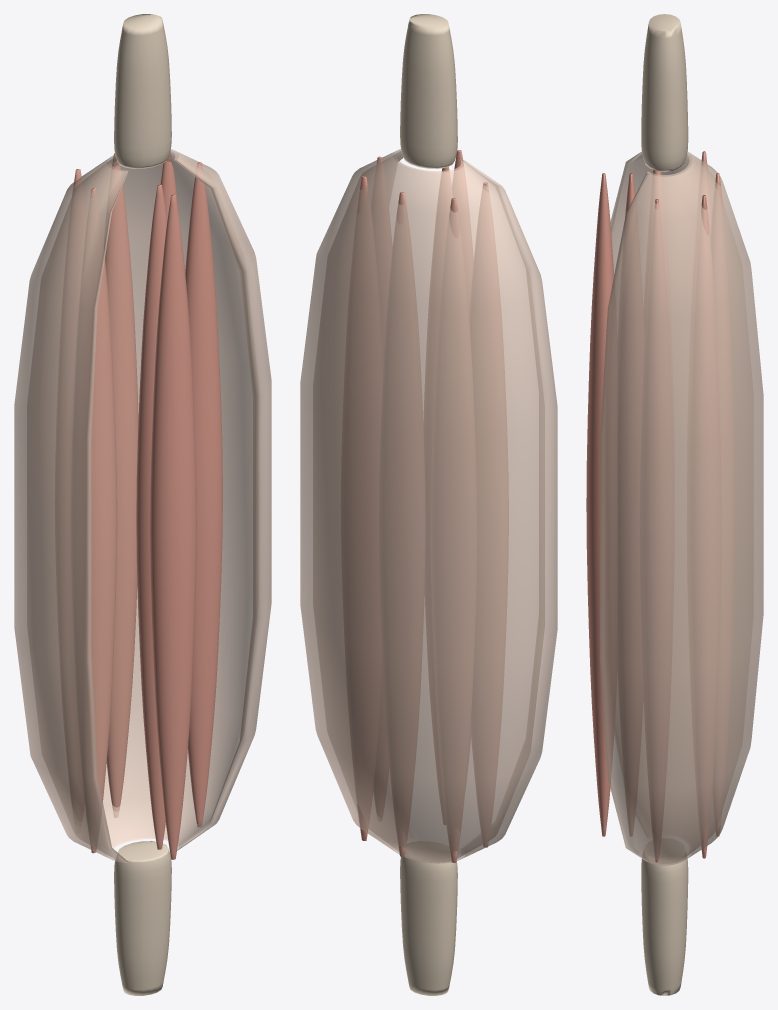
The model's file is muscle_belly.glb.
3 renders of one model, left to right at view 1: azimuth 30°, elevation 25°; view 2: azimuth 150°, elevation 25°; view 3: azimuth 270°, elevation 25°, orthographic.
Parts seen in each view (by area): view 1: Epimysium, Fascicle bundle 07, Fascicle bundle 02, Fascicle bundle 03, Fascicle bundle 06, Fascicle bundle 04, Fascicle bundle 01, TendonTop collagen, TendonBottom collagen, Fascicle bundle 05; view 2: Epimysium, Fascicle bundle 04, Fascicle bundle 06, Fascicle bundle 05, Fascicle bundle 02, TendonTop collagen, TendonBottom collagen, Fascicle bundle 01, Fascicle bundle 03, Fascicle bundle 07; view 3: Epimysium, Fascicle bundle 05, Fascicle bundle 03, Fascicle bundle 07, Fascicle bundle 01, Fascicle bundle 06, TendonTop collagen, TendonBottom collagen, Fascicle bundle 02, Fascicle bundle 04.
Boxes of the visible parts, x1,y1,x2,y2 form: Epimysium: (14, 149, 271, 863); Fascicle bundle 07: (150, 194, 196, 859); Fascicle bundle 02: (71, 188, 117, 853); Fascicle bundle 03: (185, 162, 222, 827); Fascicle bundle 06: (104, 153, 138, 817); Fascicle bundle 04: (55, 169, 86, 821); Fascicle bundle 01: (136, 184, 167, 849); TendonTop collagen: (114, 14, 171, 168); TendonBottom collagen: (114, 841, 171, 995); Fascicle bundle 05: (160, 150, 178, 220); Epimysium: (300, 149, 557, 863); Fascicle bundle 04: (431, 198, 476, 862); Fascicle bundle 06: (379, 192, 424, 856); Fascicle bundle 05: (341, 176, 382, 840); Fascicle bundle 02: (469, 182, 508, 847); TendonTop collagen: (400, 14, 457, 168); TendonBottom collagen: (400, 841, 457, 995); Fascicle bundle 01: (424, 166, 452, 824); Fascicle bundle 03: (371, 156, 391, 818); Fascicle bundle 07: (452, 150, 473, 771); Epimysium: (600, 151, 763, 865); Fascicle bundle 05: (687, 195, 720, 858); Fascicle bundle 03: (640, 199, 673, 862); Fascicle bundle 07: (586, 173, 616, 836); Fascicle bundle 01: (618, 173, 643, 835); Fascicle bundle 06: (711, 173, 734, 836); TendonTop collagen: (641, 14, 688, 171); TendonBottom collagen: (641, 839, 688, 995); Fascicle bundle 02: (644, 169, 673, 438); Fascicle bundle 04: (687, 151, 711, 451).
Size of the model in its own units: 0.018 by 0.07 by 0.0117.
